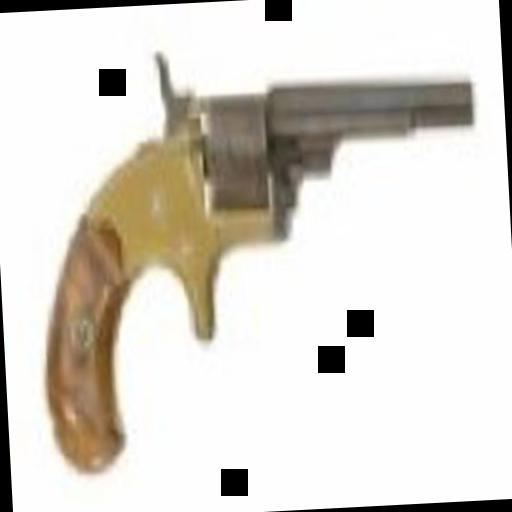Handgun: (32, 34, 492, 474)
